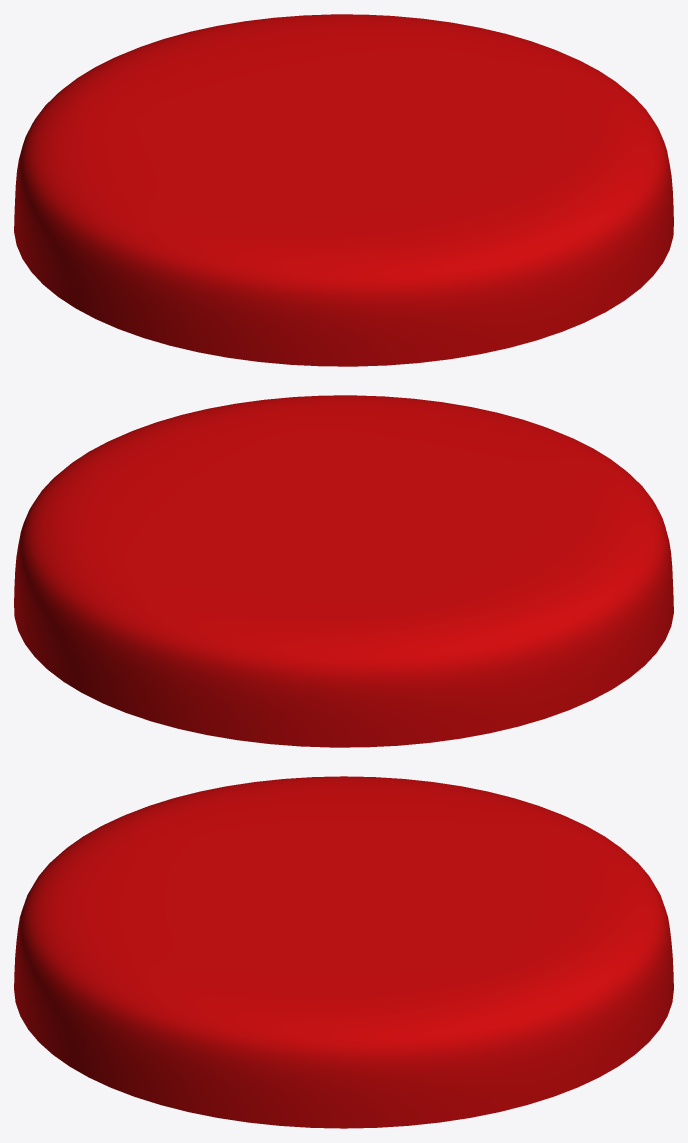
The picture shows the model from 3 angles, top to bottom: view 1: azimuth 30°, elevation 25°; view 2: azimuth 150°, elevation 25°; view 3: azimuth 270°, elevation 25°; orthographic projection.
Parts seen in each view (by area): view 1: button3; view 2: button3; view 3: button3.
Part boxes in pixels (bbox=[...]): button3: bbox=[14, 14, 673, 366]; button3: bbox=[14, 395, 673, 747]; button3: bbox=[14, 776, 673, 1128].
Size of the model in its own units: 0.0316 by 0.00502 by 0.0316.
